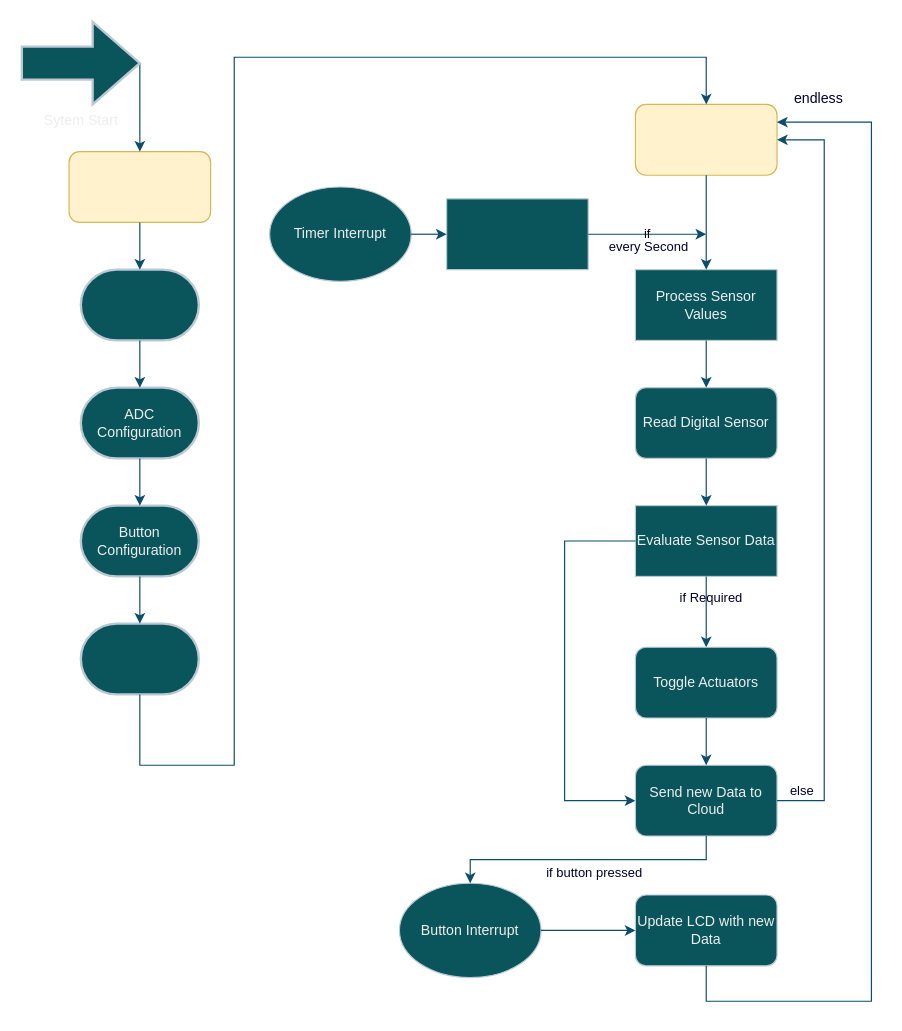
Some shapes in this 902 by 1031 pixel diagram are drawn without their labels. The shapes that lost their labels are listed below. From the top down, each one's box as (x1, y1, x2, y2) in pixels, then its label:
(634, 103, 777, 175): Loop()
(68, 150, 211, 222): Setup()
(445, 198, 588, 270): ISR Read Analog Sensors
(79, 268, 199, 341): Timer Configuration
(79, 622, 199, 695): Activate Interrupts
